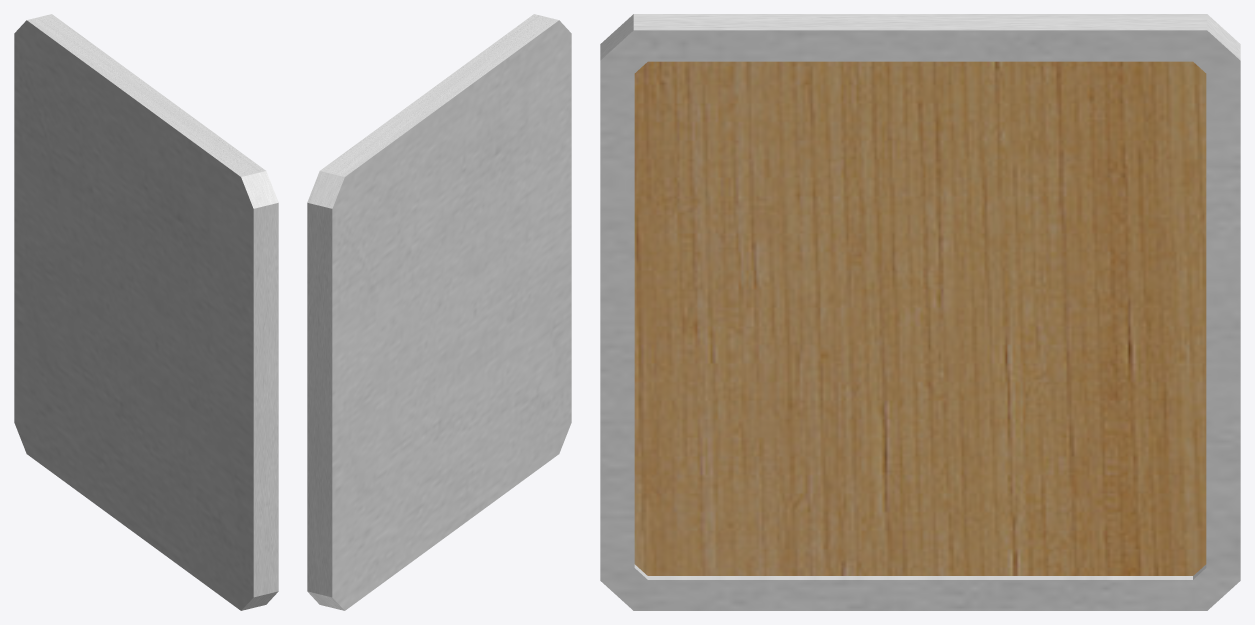
File: Peça3.fbx
The picture shows the model from 3 angles, left to right: view 1: azimuth 30°, elevation 25°; view 2: azimuth 150°, elevation 25°; view 3: azimuth 270°, elevation 25°; orthographic projection. The views are drawn at different scales.
Visible parts, largest first — view 1: Cube.030; view 2: Cube.030; view 3: Cube.030.
Part boxes in pixels (box(x1,y1,x2,y2)): Cube.030: box(14, 14, 278, 610); Cube.030: box(307, 14, 571, 610); Cube.030: box(600, 14, 1240, 610).
Size of the model in its own units: 2.58 by 42.45 by 42.45.
Materials: 2 (2 with a texture image).
